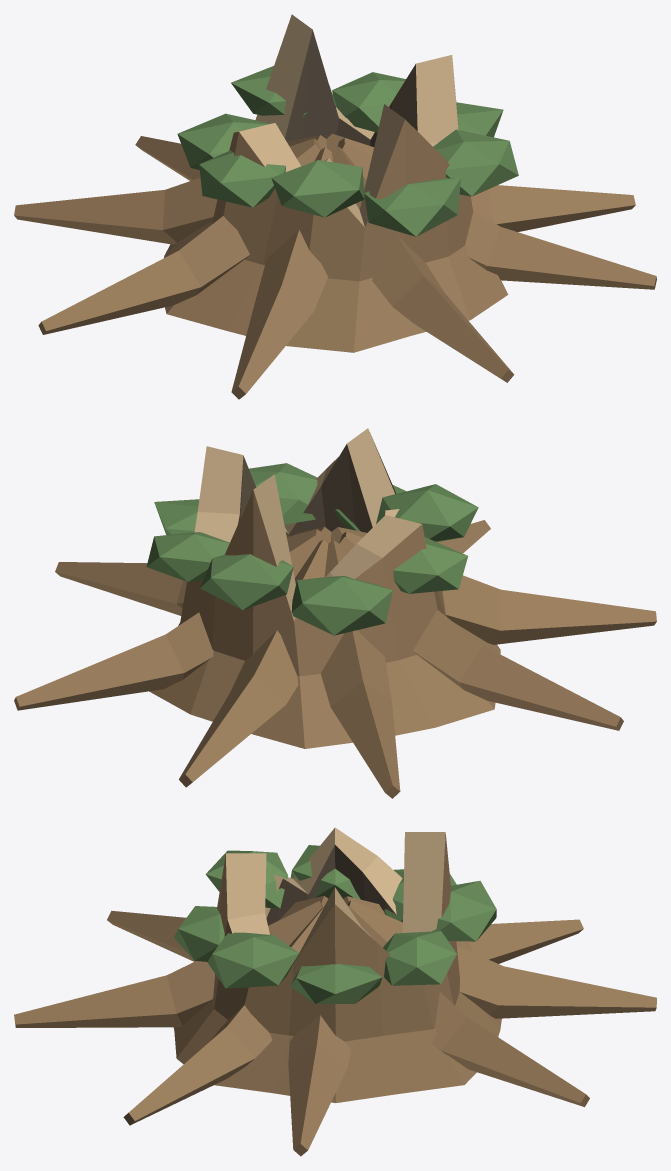
Rendered from stump_03.glb.
3 views of the same model, one above another, from view 1: azimuth 30°, elevation 25°; view 2: azimuth 150°, elevation 25°; view 3: azimuth 270°, elevation 25° (orthographic). The views are drawn at different scales.
Visible parts, largest first — view 1: Stump_800_03; view 2: Stump_800_03; view 3: Stump_800_03.
Boxes of the visible parts, x1,y1,x2,y2 form: Stump_800_03: (14,14,656,399); Stump_800_03: (14,428,656,798); Stump_800_03: (14,827,656,1156).
Size of the model in its own units: 3 by 1.07 by 3.
